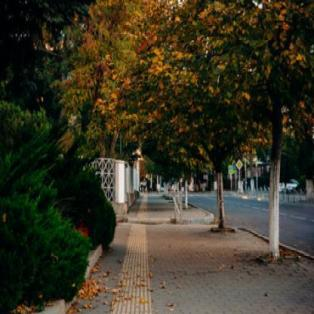Podoctatil: (107, 189, 172, 314)
